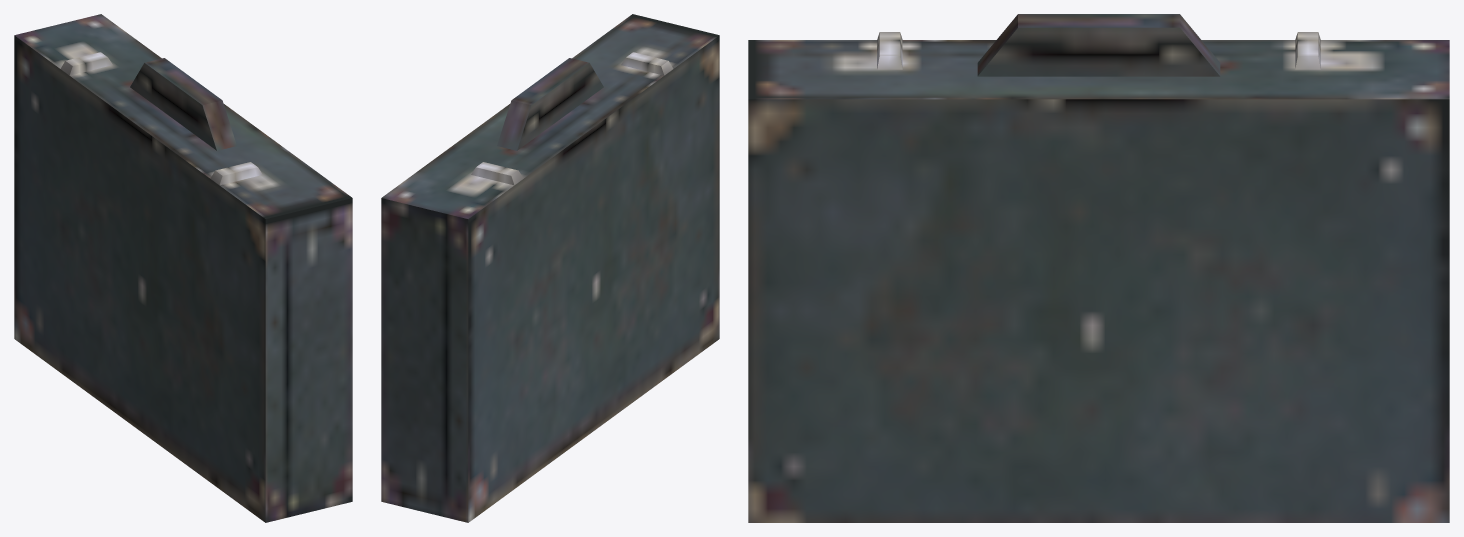
File: Briefcase01b.obj
3 views of the same model, side by side, from view 1: azimuth 30°, elevation 25°; view 2: azimuth 150°, elevation 25°; view 3: azimuth 270°, elevation 25° (orthographic). The views are drawn at different scales.
Visible parts, largest first — view 1: Briefcase01b_Lid, Briefcase01b_Base, Briefcase01b_Locks; view 2: Briefcase01b_Lid, Briefcase01b_Base, Briefcase01b_Locks; view 3: Briefcase01b_Base, Briefcase01b_Lid, Briefcase01b_Locks.
Boxes of the visible parts, left/top/right/bottom form: Briefcase01b_Lid: left=14, top=30, right=287, bottom=522; Briefcase01b_Base: left=36, top=14, right=352, bottom=517; Briefcase01b_Locks: left=60, top=52, right=262, bottom=185; Briefcase01b_Lid: left=446, top=30, right=719, bottom=522; Briefcase01b_Base: left=381, top=14, right=697, bottom=517; Briefcase01b_Locks: left=471, top=52, right=673, bottom=185; Briefcase01b_Base: left=748, top=14, right=1449, bottom=522; Briefcase01b_Lid: left=748, top=40, right=1449, bottom=54; Briefcase01b_Locks: left=877, top=32, right=1320, bottom=69.
Bounding box in the file's own units: 0.225 × 0.8366 × 1.12.
